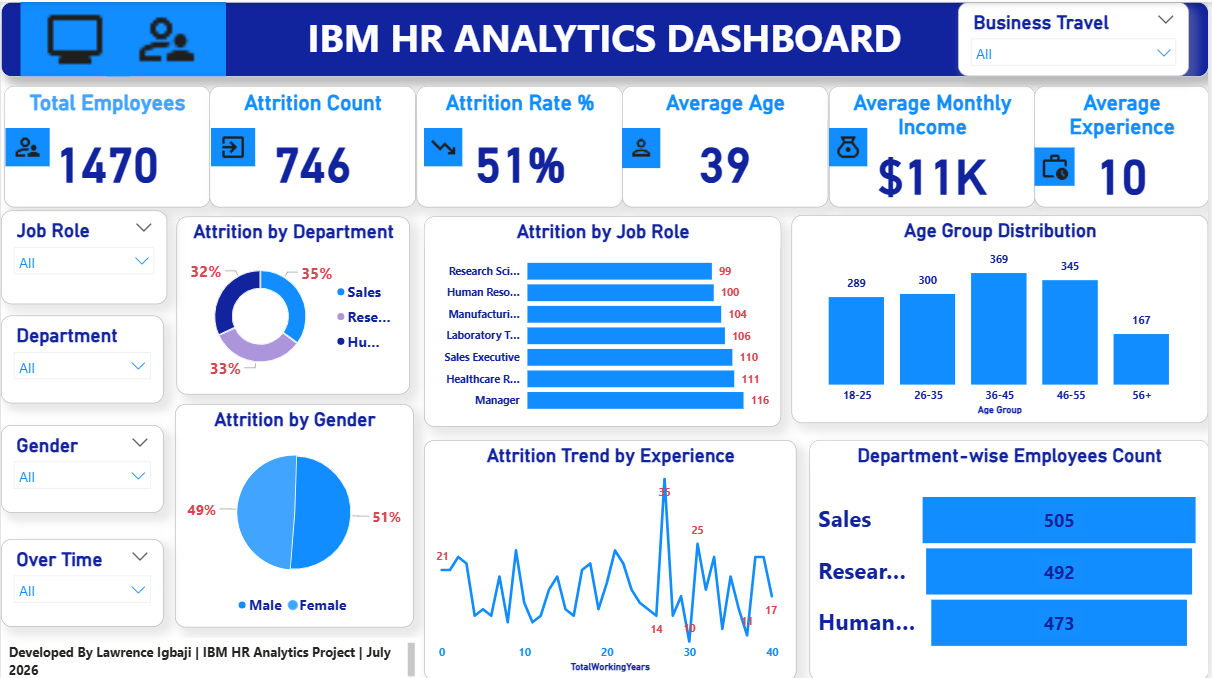

What the dashboard file says about the page in this screenshot:
{"tool":"powerbi","page":{"name":"Page 1","canvas":[1366,768],"ordinal":0},"visuals":[{"type":"textbox","box":[0,0,1365.8,84.8],"z":0},{"type":"card","title":"Total Employees","fields":{"Values":["CountNonNull(HR_Analytics.EmployeeID)"]},"box":[3.2,95,233,137],"z":1000},{"type":"card","title":"Attrition Count","fields":{"Values":["HR_Analytics.Attrition Count"]},"box":[236.5,95,233,137],"z":2000},{"type":"card","title":"Attrition Rate %","fields":{"Values":["HR_Analytics.Attrition Rate"]},"box":[469.7,95,233,137],"z":3000},{"type":"card","title":"Average Age","fields":{"Values":["HR_Analytics.Average Age"]},"box":[702.9,95,233,137],"z":4000},{"type":"card","title":"Average Monthly Income","fields":{"Values":["HR_Analytics.Average Monthly Income"]},"box":[936.1,95,233,137],"z":5000},{"type":"card","title":"Average Experience","fields":{"Values":["HR_Analytics.Average Years At Company"]},"box":[1169,95,197,137],"z":6000},{"type":"donutChart","title":"Attrition by Department","fields":{"Category":["HR_Analytics.Department"],"Y":["HR_Analytics.Attrition Count"]},"box":[198.8,242.1,263.7,201],"z":7000},{"type":"clusteredBarChart","title":"Attrition by Job Role","fields":{"Category":["HR_Analytics.JobRole"],"Y":["HR_Analytics.Attrition Count"]},"box":[477.7,242.1,404.2,237.8],"z":8000},{"type":"columnChart","title":"Age Group Distribution","fields":{"Category":["HR_Analytics.Age Group"],"Y":["HR_Analytics.Total Employees"]},"box":[894.8,241,471.2,235.6],"z":9000},{"type":"pieChart","title":"Attrition by Gender","fields":{"Category":["HR_Analytics.Gender"],"Y":["HR_Analytics.Attrition Count"]},"box":[196.8,454.7,269.8,252.8],"z":10000},{"type":"lineChart","title":"Attrition Trend by Experience","fields":{"Category":["HR_Analytics.TotalWorkingYears"],"Y2":["HR_Analytics.Attrition Count"]},"box":[477.7,495,421.5,272.3],"z":11000},{"type":"funnel","title":" Department-wise Employees Count","fields":{"Category":["HR_Analytics.Department"],"Y":["CountNonNull(HR_Analytics.EmployeeID)"]},"box":[914.3,495,451.7,272.3],"z":12000},{"type":"textbox","box":[3.4,719.4,470,49.2],"z":13000},{"type":"slicer","fields":{"Values":["HR_Analytics.JobRole"]},"box":[0,235.6,188,105.9],"z":14000},{"type":"slicer","fields":{"Values":["HR_Analytics.Department"]},"box":[0,354.5,183.7,99.4],"z":15000},{"type":"slicer","fields":{"Values":["HR_Analytics.Gender"]},"box":[0,477.7,183.7,99.4],"z":16000},{"type":"slicer","fields":{"Values":["HR_Analytics.OverTime"]},"box":[0,607.4,183.7,99.4],"z":17000},{"type":"slicer","fields":{"Values":["HR_Analytics.BusinessTravel"]},"box":[1082.9,0,261.5,84.3],"z":18000},{"type":"image","box":[121,0,134,84.3],"z":18001},{"type":"image","box":[21.6,0,123.2,84.3],"z":18002},{"type":"image","box":[4.3,142.7,49.7,43.2],"z":18003},{"type":"image","box":[237.8,142.7,49.7,43.2],"z":18004},{"type":"image","box":[477.7,142.7,43.2,43.2],"z":18005},{"type":"image","box":[935.9,142.7,43.2,43],"z":18006},{"type":"image","box":[1169.3,164.3,45.4,43.2],"z":18007},{"type":"image","box":[702.5,142.7,43,45],"z":18008}]}

Visuals, with their boxes in screenshot pixels (x1, y1, x2, y2), scaled from the page's 1366x768 canvas onto the 1212x678 screenshot:
textbox: <region>0, 0, 1211, 75</region>
"Total Employees" card: <region>3, 84, 210, 205</region>
"Attrition Count" card: <region>210, 84, 417, 205</region>
"Attrition Rate %" card: <region>417, 84, 623, 205</region>
"Average Age" card: <region>624, 84, 830, 205</region>
"Average Monthly Income" card: <region>831, 84, 1037, 205</region>
"Average Experience" card: <region>1037, 84, 1211, 205</region>
"Attrition by Department" donutChart: <region>176, 214, 410, 391</region>
"Attrition by Job Role" clusteredBarChart: <region>424, 214, 782, 424</region>
"Age Group Distribution" columnChart: <region>794, 213, 1211, 421</region>
"Attrition by Gender" pieChart: <region>175, 401, 414, 625</region>
"Attrition Trend by Experience" lineChart: <region>424, 437, 798, 677</region>
" Department-wise Employees Count" funnel: <region>811, 437, 1211, 677</region>
textbox: <region>3, 635, 420, 677</region>
slicer - HR_Analytics.JobRole: <region>0, 208, 167, 301</region>
slicer - HR_Analytics.Department: <region>0, 313, 163, 401</region>
slicer - HR_Analytics.Gender: <region>0, 422, 163, 509</region>
slicer - HR_Analytics.OverTime: <region>0, 536, 163, 624</region>
slicer - HR_Analytics.BusinessTravel: <region>961, 0, 1193, 74</region>
image: <region>107, 0, 226, 74</region>
image: <region>19, 0, 128, 74</region>
image: <region>4, 126, 48, 164</region>
image: <region>211, 126, 255, 164</region>
image: <region>424, 126, 462, 164</region>
image: <region>830, 126, 869, 164</region>
image: <region>1037, 145, 1078, 183</region>
image: <region>623, 126, 661, 166</region>
